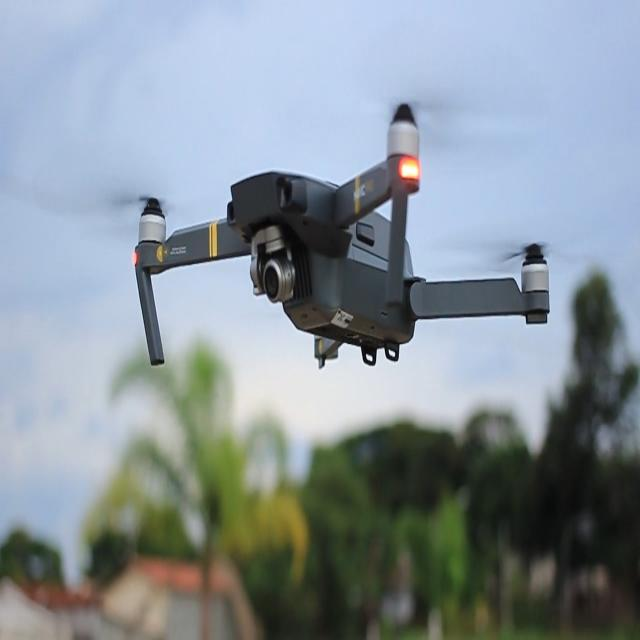Drone: (132, 105, 549, 370)
